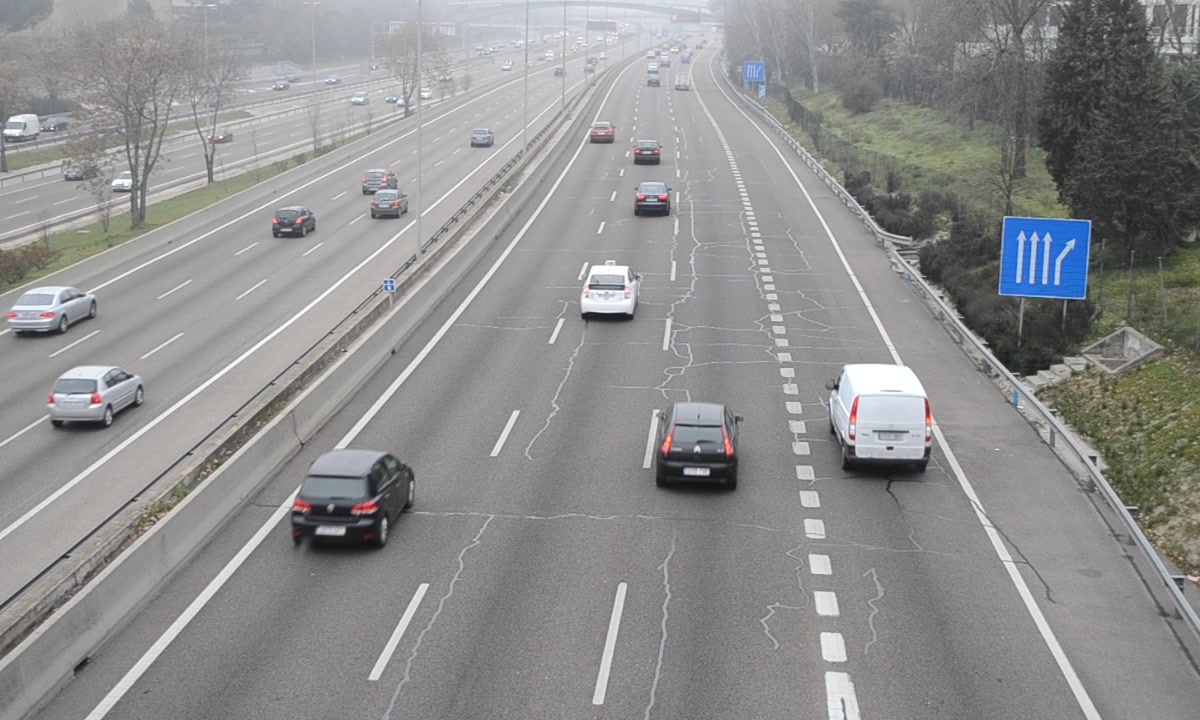car: (291, 449, 414, 543), (657, 401, 738, 484), (581, 263, 640, 312), (635, 180, 671, 218), (633, 136, 662, 168), (588, 120, 616, 145)
van: (831, 364, 932, 465)
